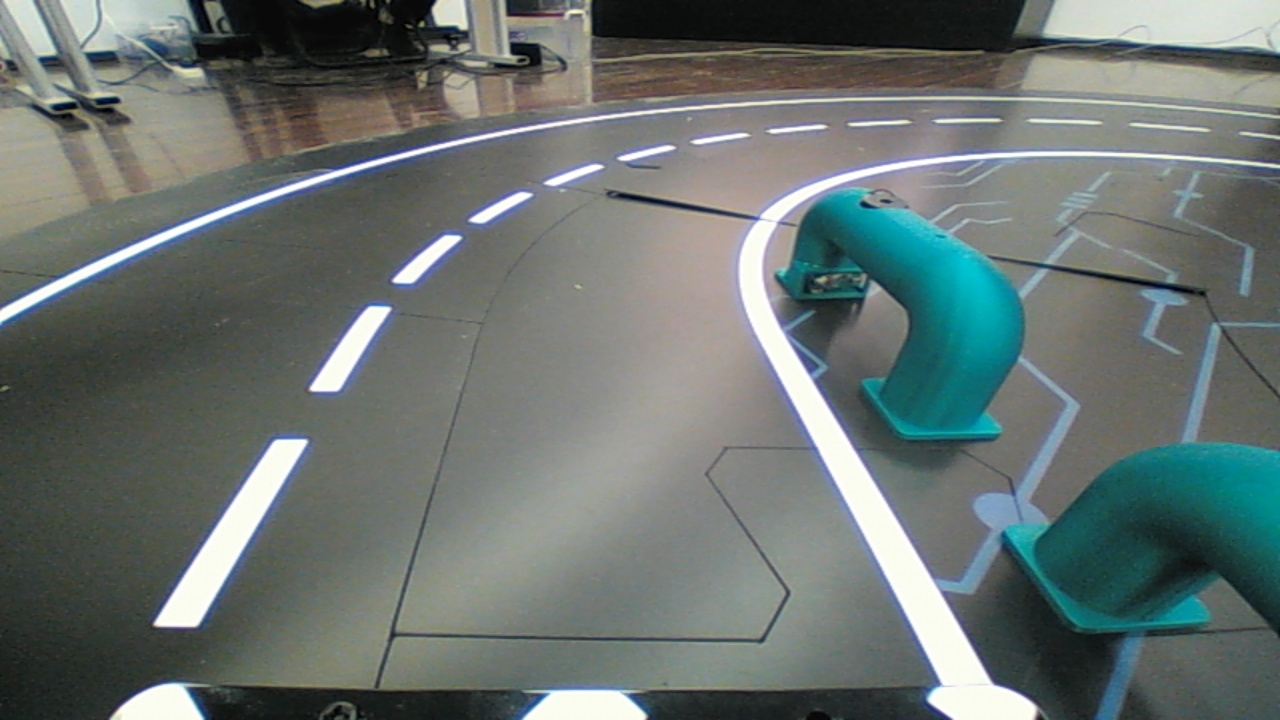Pedestrian crossing: (773, 163, 1049, 458)
